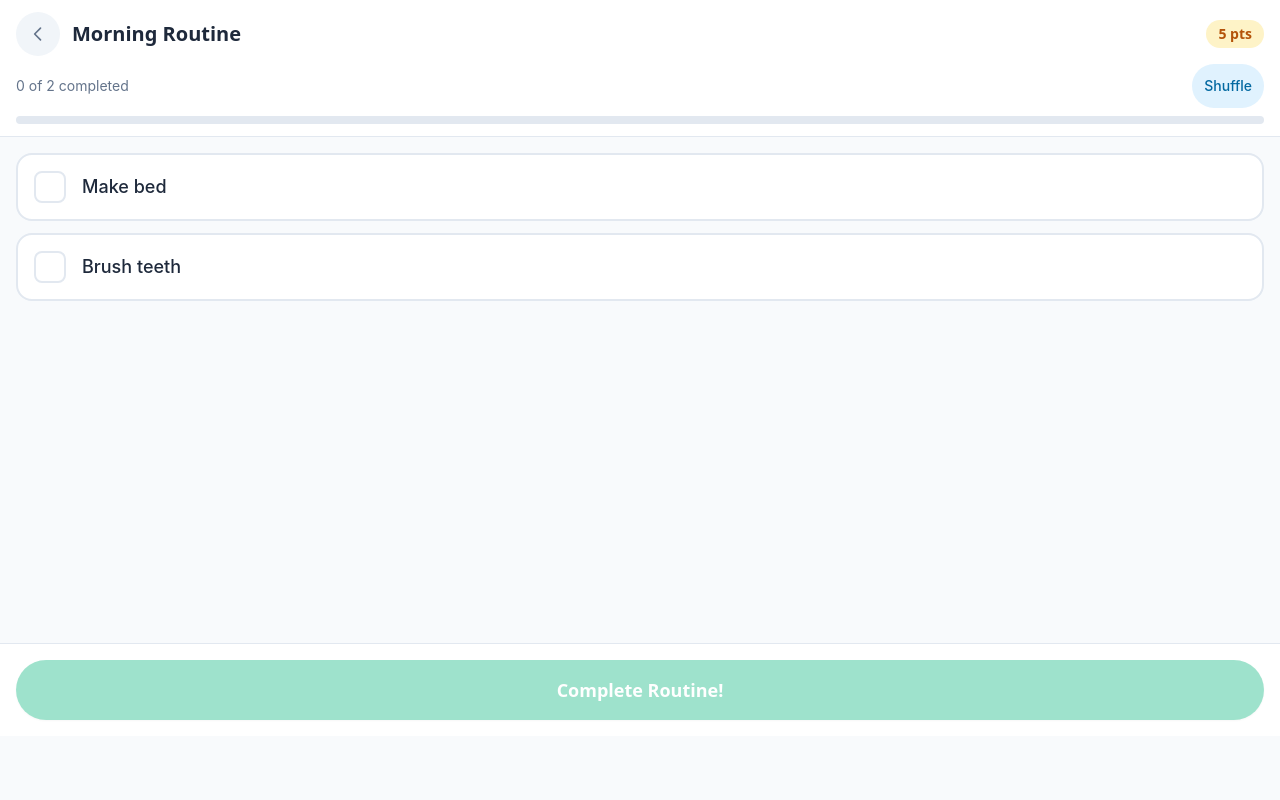
it: RoutineChecklist › submit button becomes enabled after checking all items
Check: the text "0 of 2 completed" is shown, box [16,76,129,96]
Click the checkbox labelled "Brush teeth" at (640, 267), box [16,233,1264,301]
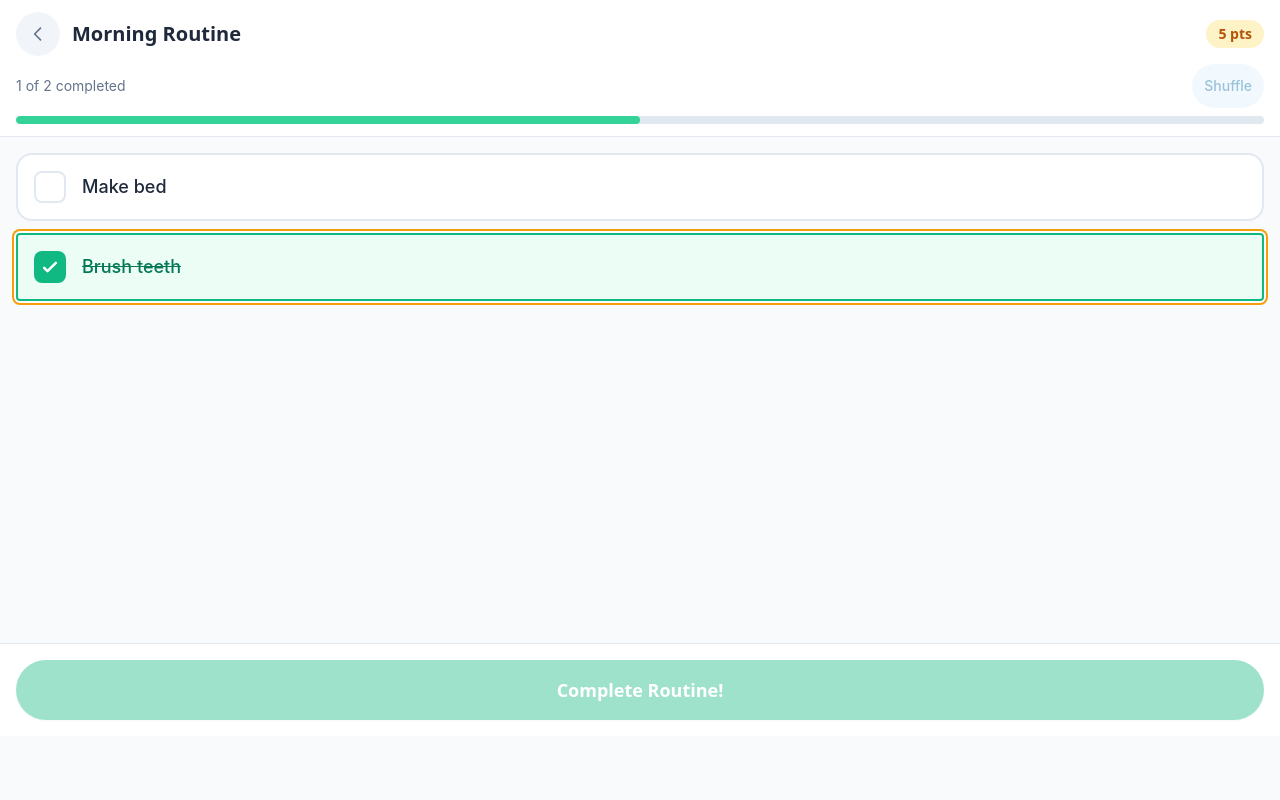
Check: the checkbox labelled "Brush teeth" is checked, box [16,233,1264,301]
Click the checkbox labelled "Make bed" at (640, 187), box [16,153,1264,221]
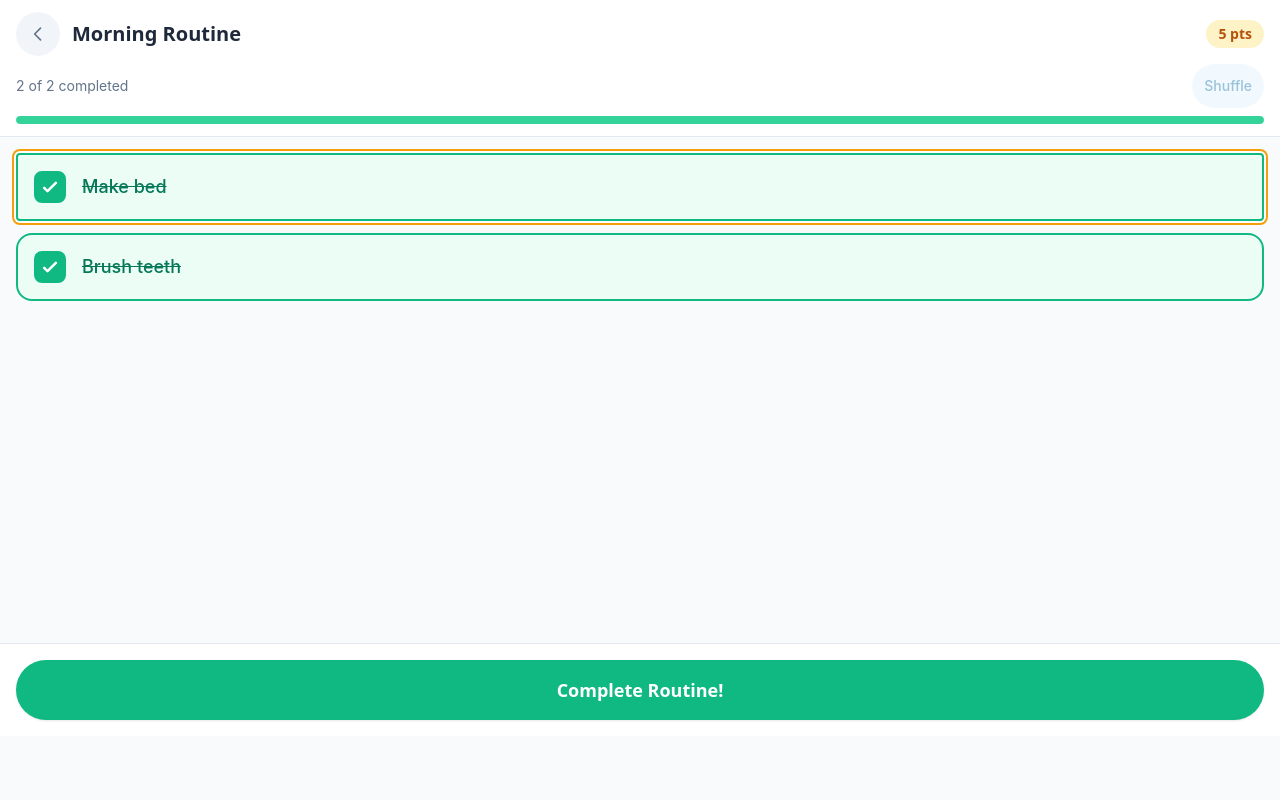
Check: the button "Complete Routine!" is enabled, box [16,660,1264,720]
